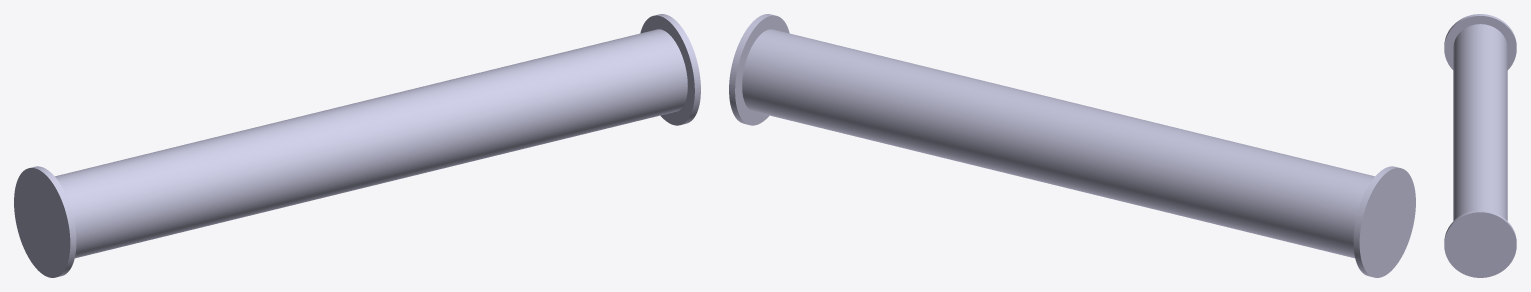
The model's file is Camera_Connecting_rod.dae.
The picture shows the model from 3 angles, left to right: view 1: azimuth 30°, elevation 25°; view 2: azimuth 150°, elevation 25°; view 3: azimuth 270°, elevation 25°; orthographic projection. The views are drawn at different scales.
Parts seen in each view (by area): view 1: node0; view 2: node0; view 3: node0.
Part boxes in pixels (x1=…): node0: x1=14, y1=14, x2=700, y2=277; node0: x1=729, y1=14, x2=1415, y2=277; node0: x1=1444, y1=14, x2=1516, y2=277.
Bounding box in the file's own units: 0.0517 × 0.008 × 0.008.
